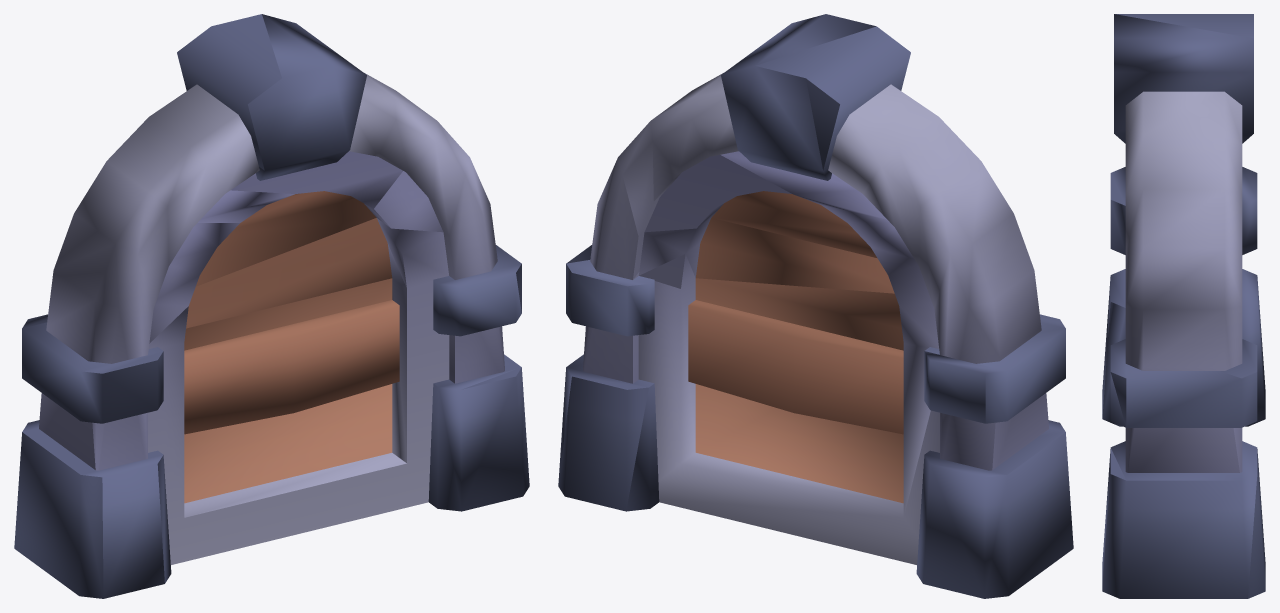
File: gate-door.fbx
The picture shows the model from 3 angles, left to right: view 1: azimuth 30°, elevation 25°; view 2: azimuth 150°, elevation 25°; view 3: azimuth 270°, elevation 25°; orthographic projection.
Parts seen in each view (by area): view 1: gate-door, door; view 2: gate-door, door; view 3: gate-door.
Part boxes in pixels (x1=…): gate-door: x1=14, y1=14, x2=529, y2=598; door: x1=148, y1=151, x2=449, y2=564; gate-door: x1=558, y1=14, x2=1073, y2=598; door: x1=638, y1=151, x2=939, y2=564; gate-door: x1=1102, y1=14, x2=1265, y2=598.
Size of the model in its own units: 440 by 440 by 140.
